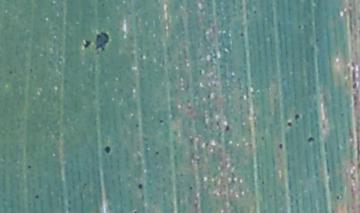tarspot: (94, 30, 109, 54), (82, 38, 92, 51), (102, 144, 112, 155), (293, 112, 301, 125), (306, 135, 316, 143), (223, 123, 231, 133), (136, 182, 144, 192), (277, 140, 284, 150), (215, 119, 222, 129), (6, 68, 14, 76), (157, 117, 165, 125), (238, 30, 246, 38), (259, 134, 267, 142), (286, 120, 293, 128), (25, 163, 33, 170), (133, 122, 141, 129), (351, 82, 358, 90), (188, 183, 194, 192), (153, 149, 160, 156), (27, 66, 34, 73), (33, 193, 41, 199), (335, 193, 341, 201), (314, 35, 320, 43), (252, 8, 258, 15), (296, 23, 302, 30)
